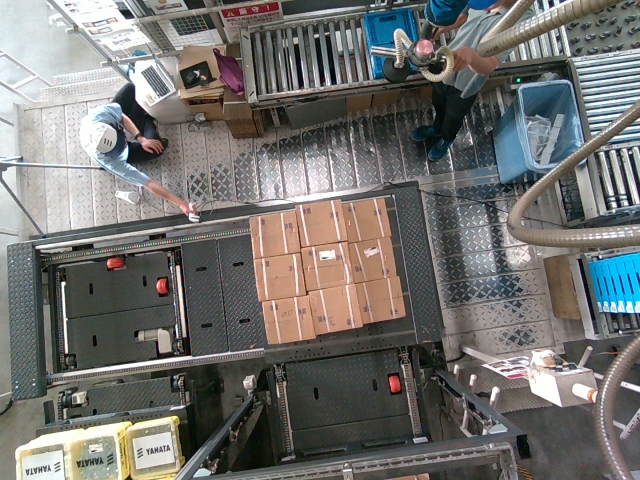box: (250, 208, 300, 256), (294, 197, 344, 245), (298, 243, 348, 291), (256, 251, 306, 299), (265, 295, 315, 343), (308, 285, 358, 333), (355, 276, 405, 324), (346, 236, 396, 284), (340, 196, 390, 244)
